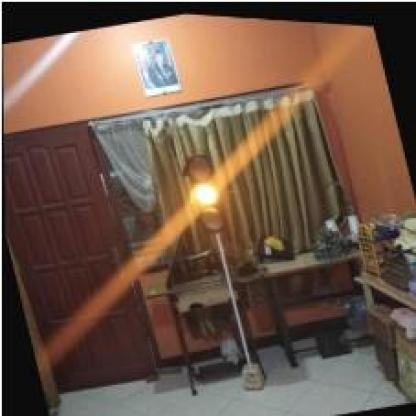yellow: (179, 148, 228, 233)
